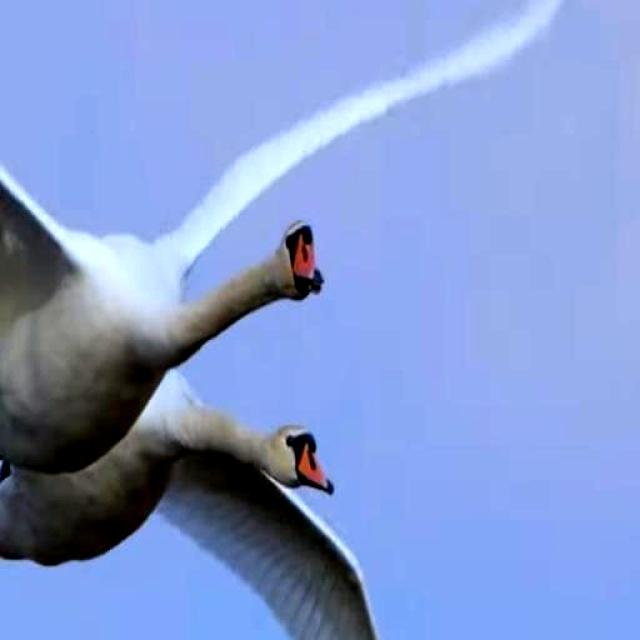airplane: (0, 0, 592, 465), (0, 389, 446, 640)
